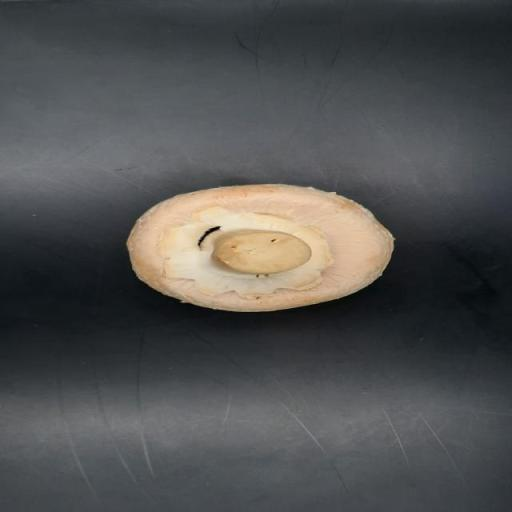Button Mushroom: (125, 182, 397, 315)
